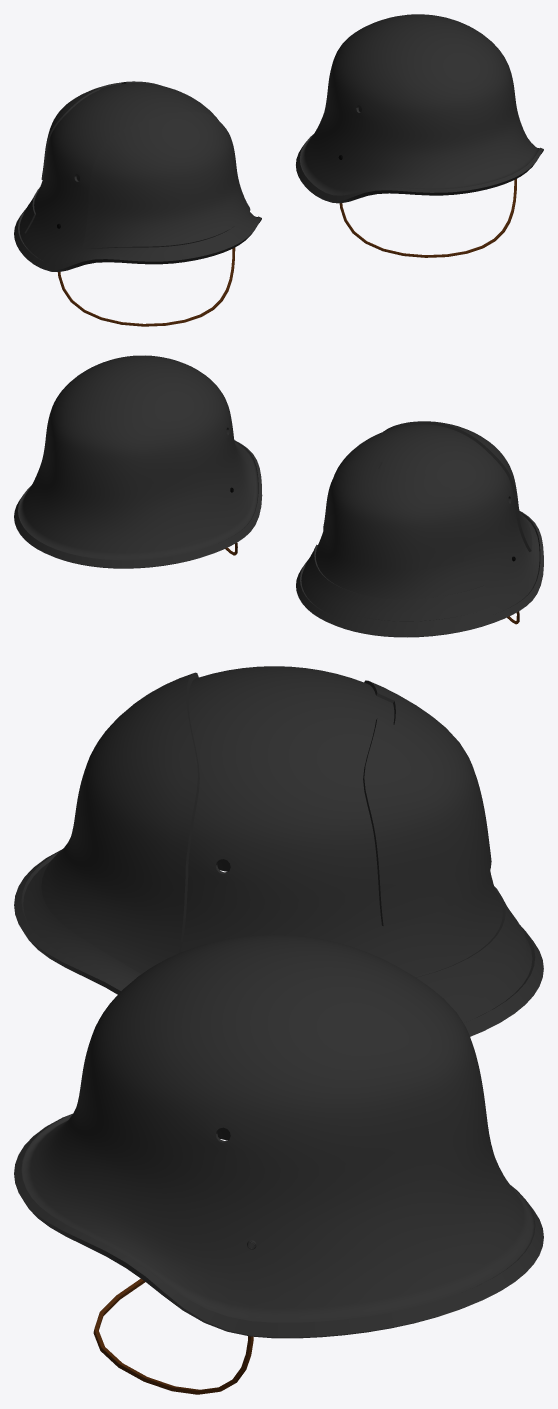
Rendered from PR-M36stahlhelm.gltf.
3 renders of one model, top to bottom at view 1: azimuth 30°, elevation 25°; view 2: azimuth 150°, elevation 25°; view 3: azimuth 270°, elevation 25°, orthographic. The views are drawn at different scales.
Visible parts, largest first — view 1: M36arm, M36, Straparm, Strap; view 2: M36arm, M36; view 3: M36, M36arm, Strap.
Part boxes in pixels (box(x1,y1,x2,y2)): M36arm: box(14, 81, 261, 271); M36: box(296, 14, 543, 203); Straparm: box(57, 247, 235, 326); Strap: box(339, 179, 516, 257); M36arm: box(296, 421, 543, 637); M36: box(14, 355, 262, 568); M36: box(14, 934, 543, 1338); M36arm: box(14, 666, 543, 1036); Strap: box(93, 1278, 253, 1394).
Bounding box in the file's own units: 3.95 × 1.48 × 1.88.
